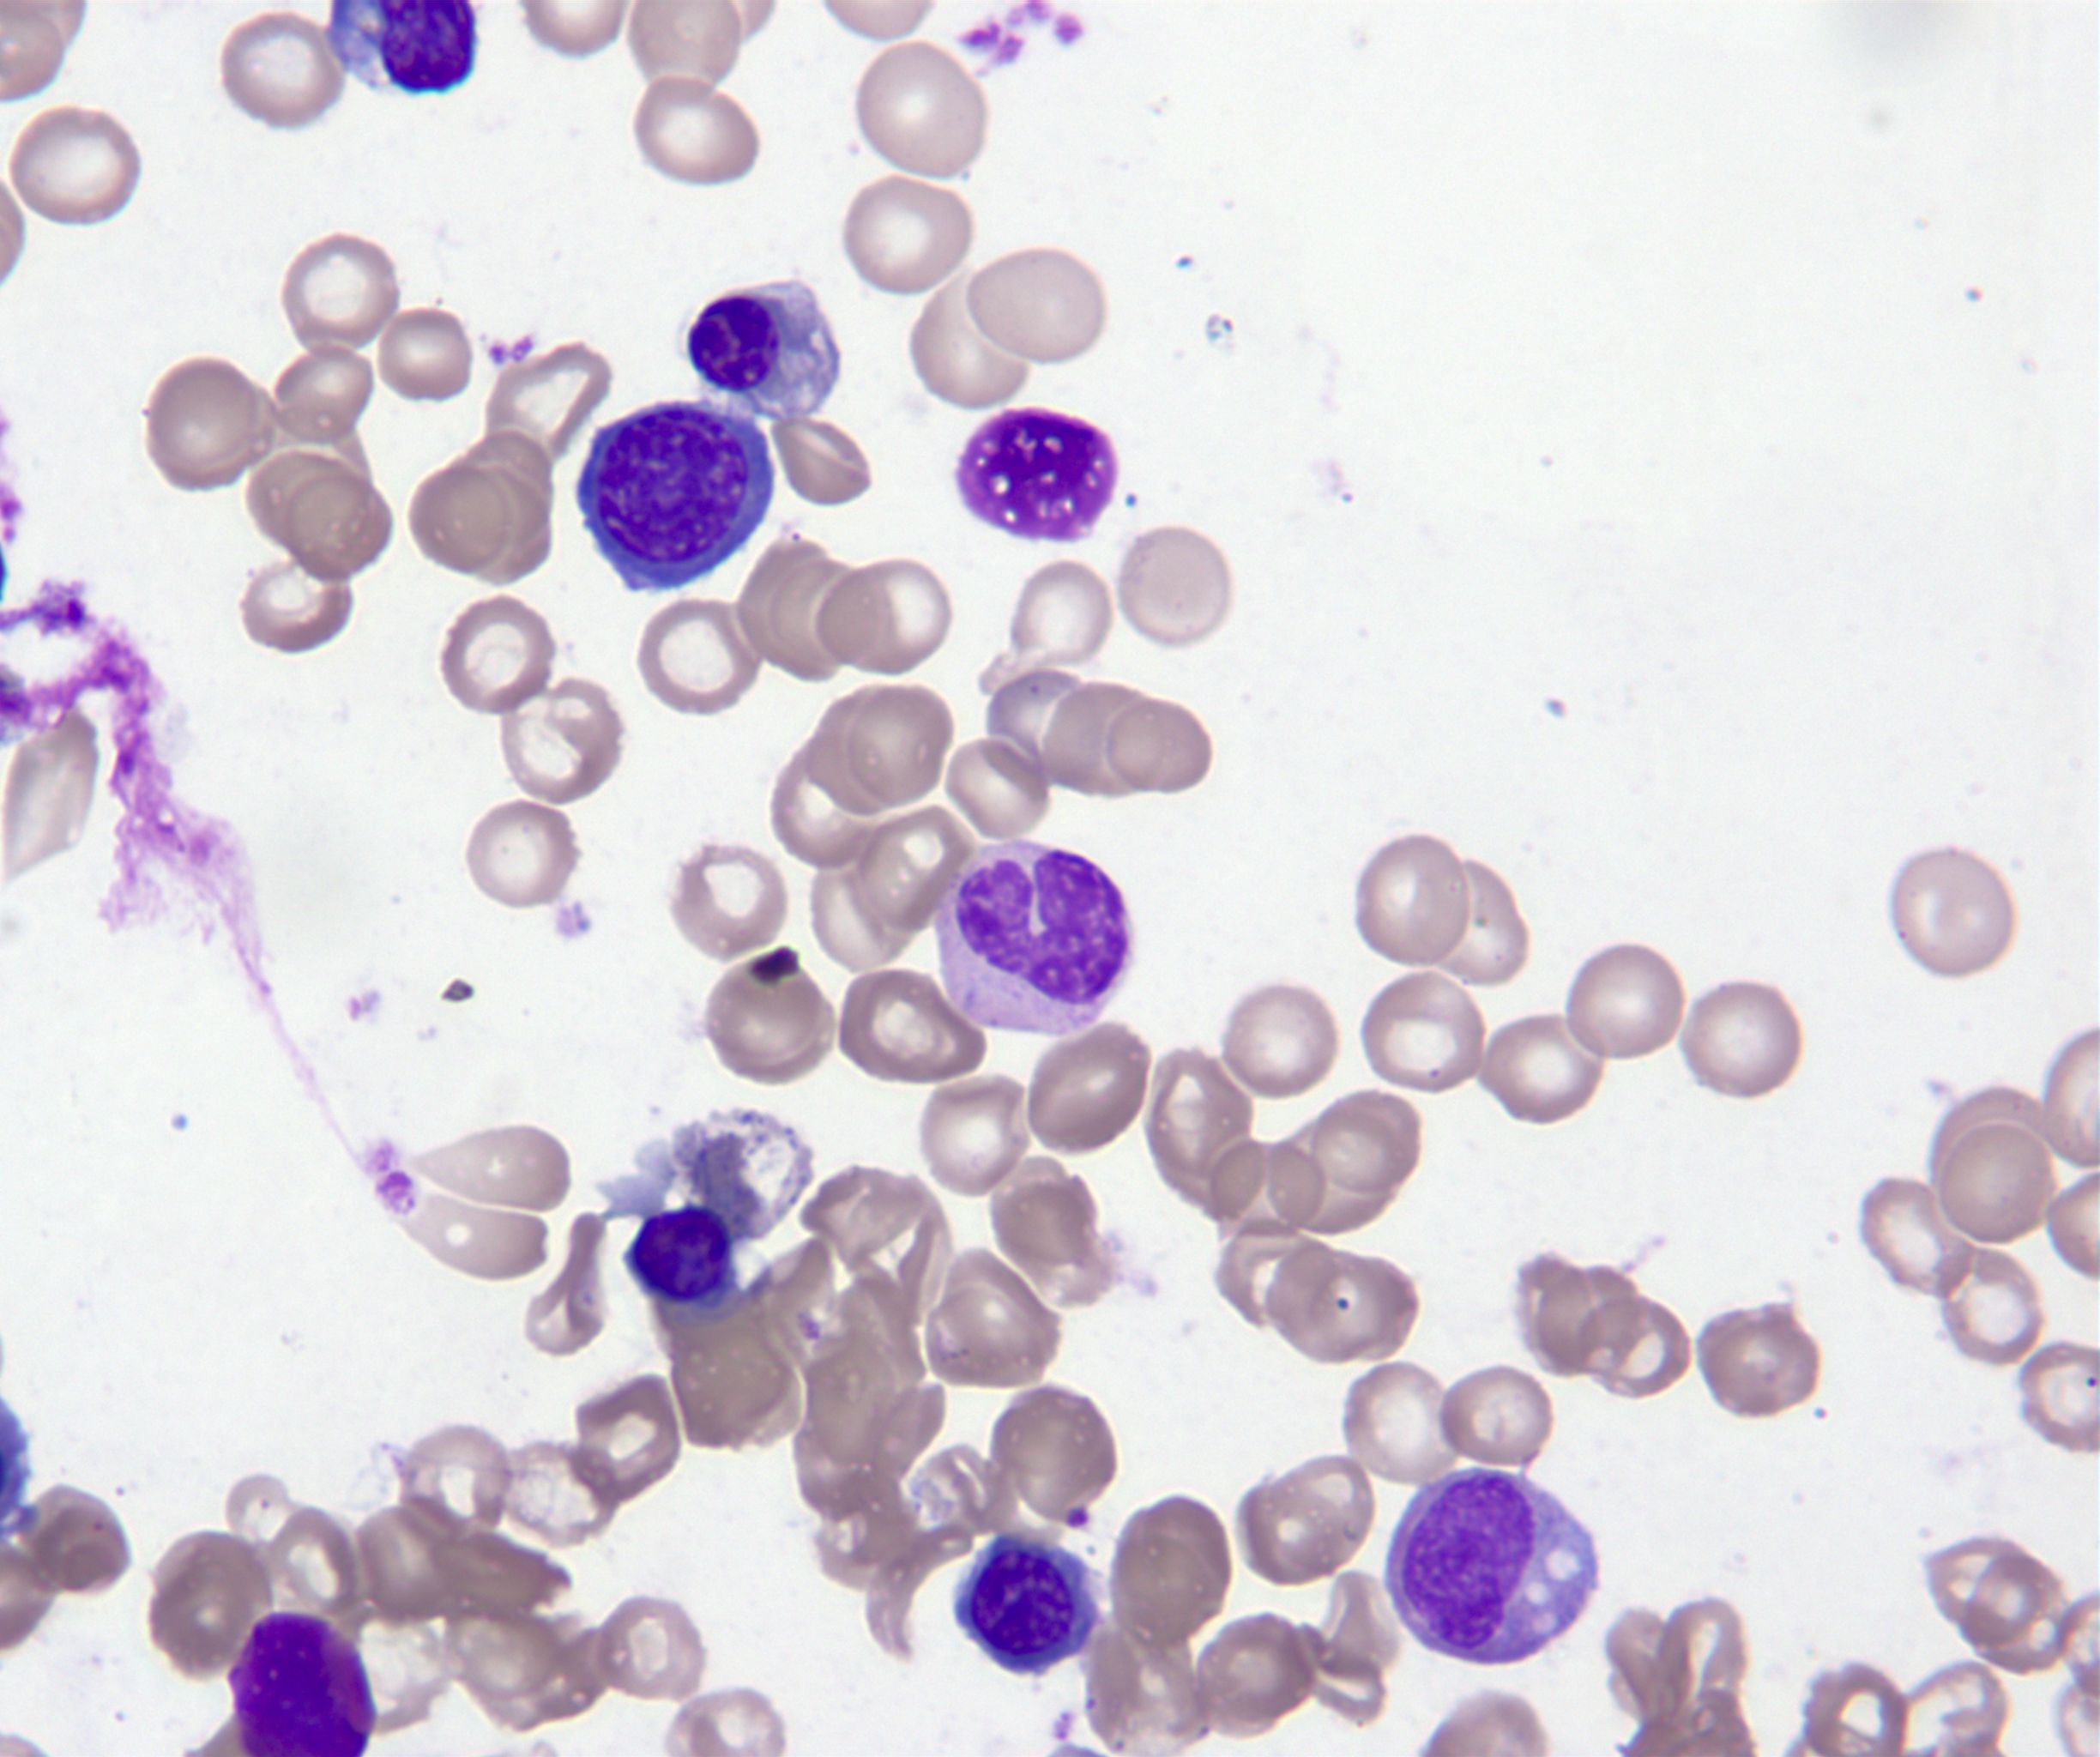23: (576, 401, 776, 591)
24: (685, 279, 839, 424), (952, 1535, 1099, 1677), (623, 1204, 734, 1314)
3: (1387, 1467, 1598, 1666)
5: (937, 839, 1130, 1035)
x: (954, 408, 1118, 543), (225, 1612, 377, 1757), (324, 0, 478, 92)
